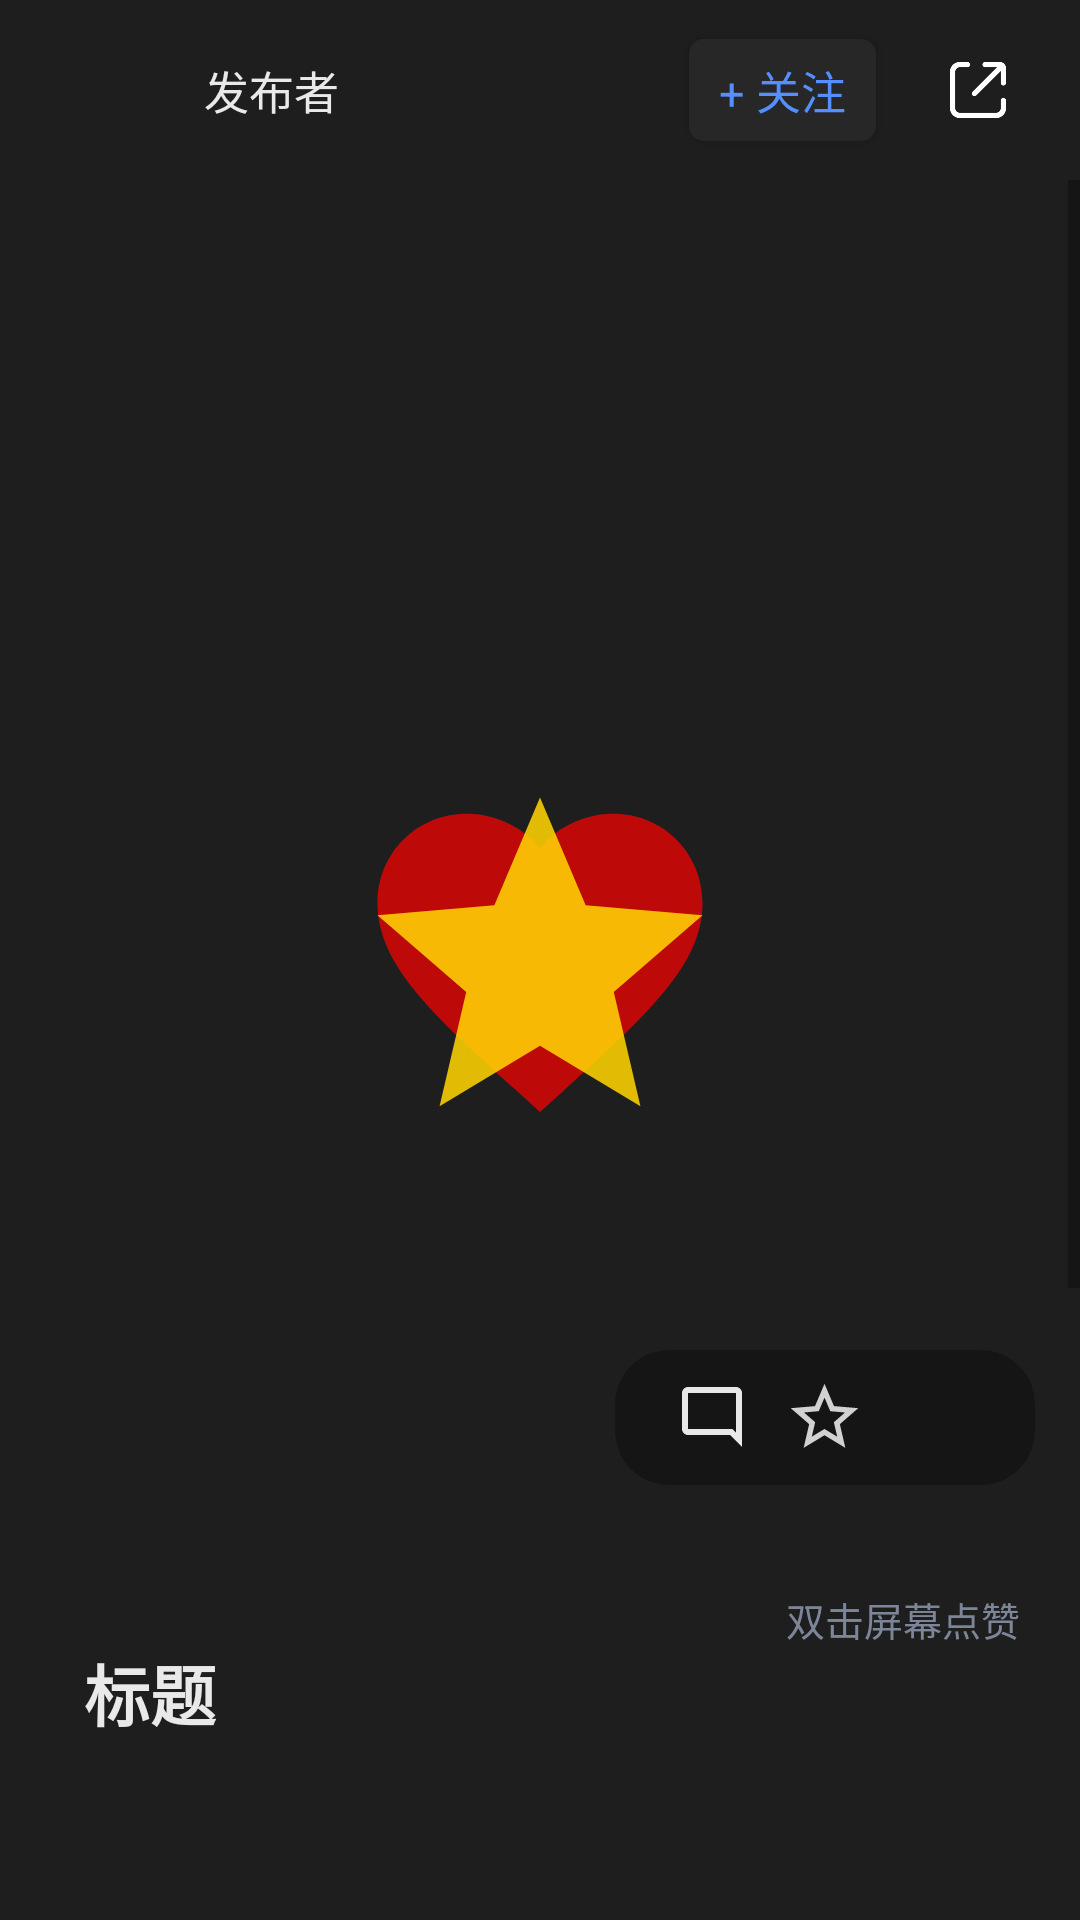

Screen size 1080*1920. Icon name, then its box in pixels as (x1, y1, x2, y2):
collect border: (791, 1384, 858, 1448)
comment: (682, 1387, 742, 1447)
net share: (950, 62, 1006, 118)
